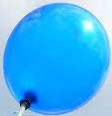Balloon: (3, 3, 112, 114)
